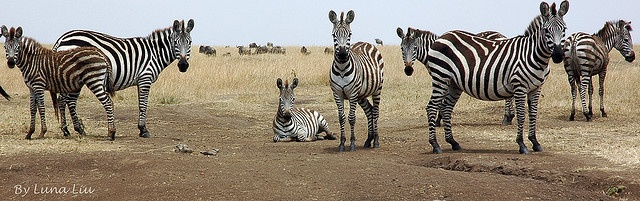zebra: (497, 74, 640, 201), (123, 80, 267, 201), (58, 81, 172, 194), (356, 78, 414, 201), (451, 51, 564, 102), (304, 111, 368, 181), (598, 69, 640, 170)
